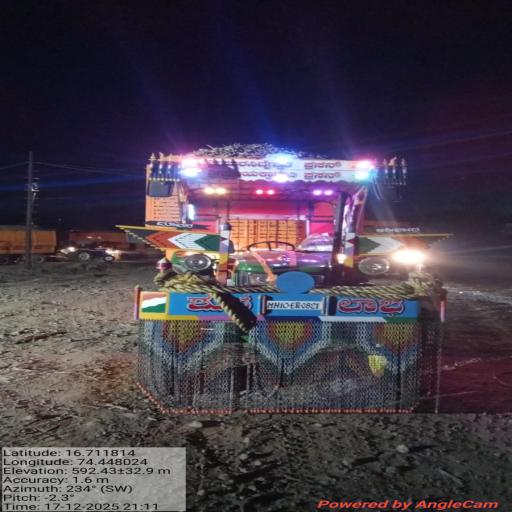number_plate: (254, 299, 333, 312)
